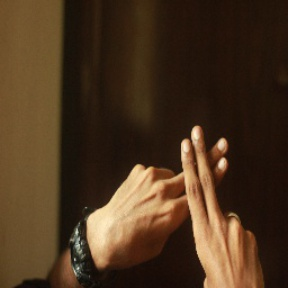F: (156, 119, 246, 237)
